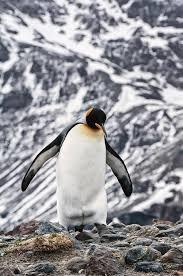king: (23, 84, 148, 254)
